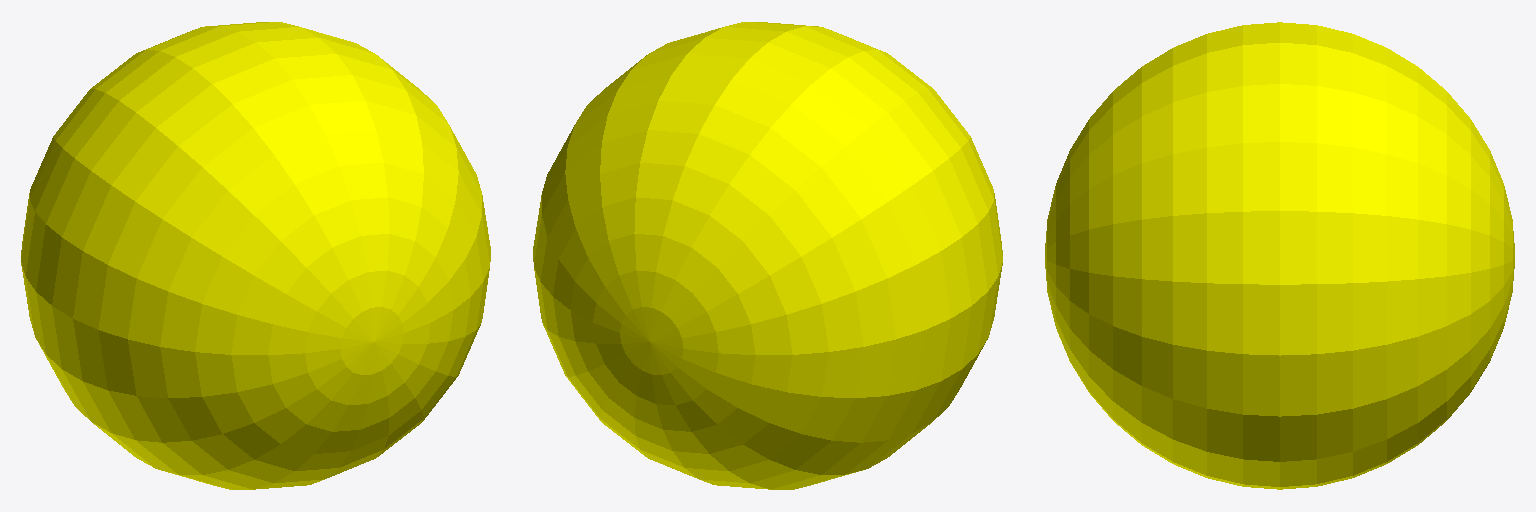
Rendered from Sun.obj.
3 renders of one model, left to right at view 1: azimuth 30°, elevation 25°; view 2: azimuth 150°, elevation 25°; view 3: azimuth 270°, elevation 25°, orthographic.
Parts seen in each view (by area): view 1: Sun; view 2: Sun; view 3: Sun.
Boxes of the visible parts, box(x1,y1,x2,y2) form: Sun: box(21, 22, 490, 489); Sun: box(533, 22, 1002, 489); Sun: box(1045, 22, 1514, 489).
Bounding box in the file's own units: 2 × 2 × 2.